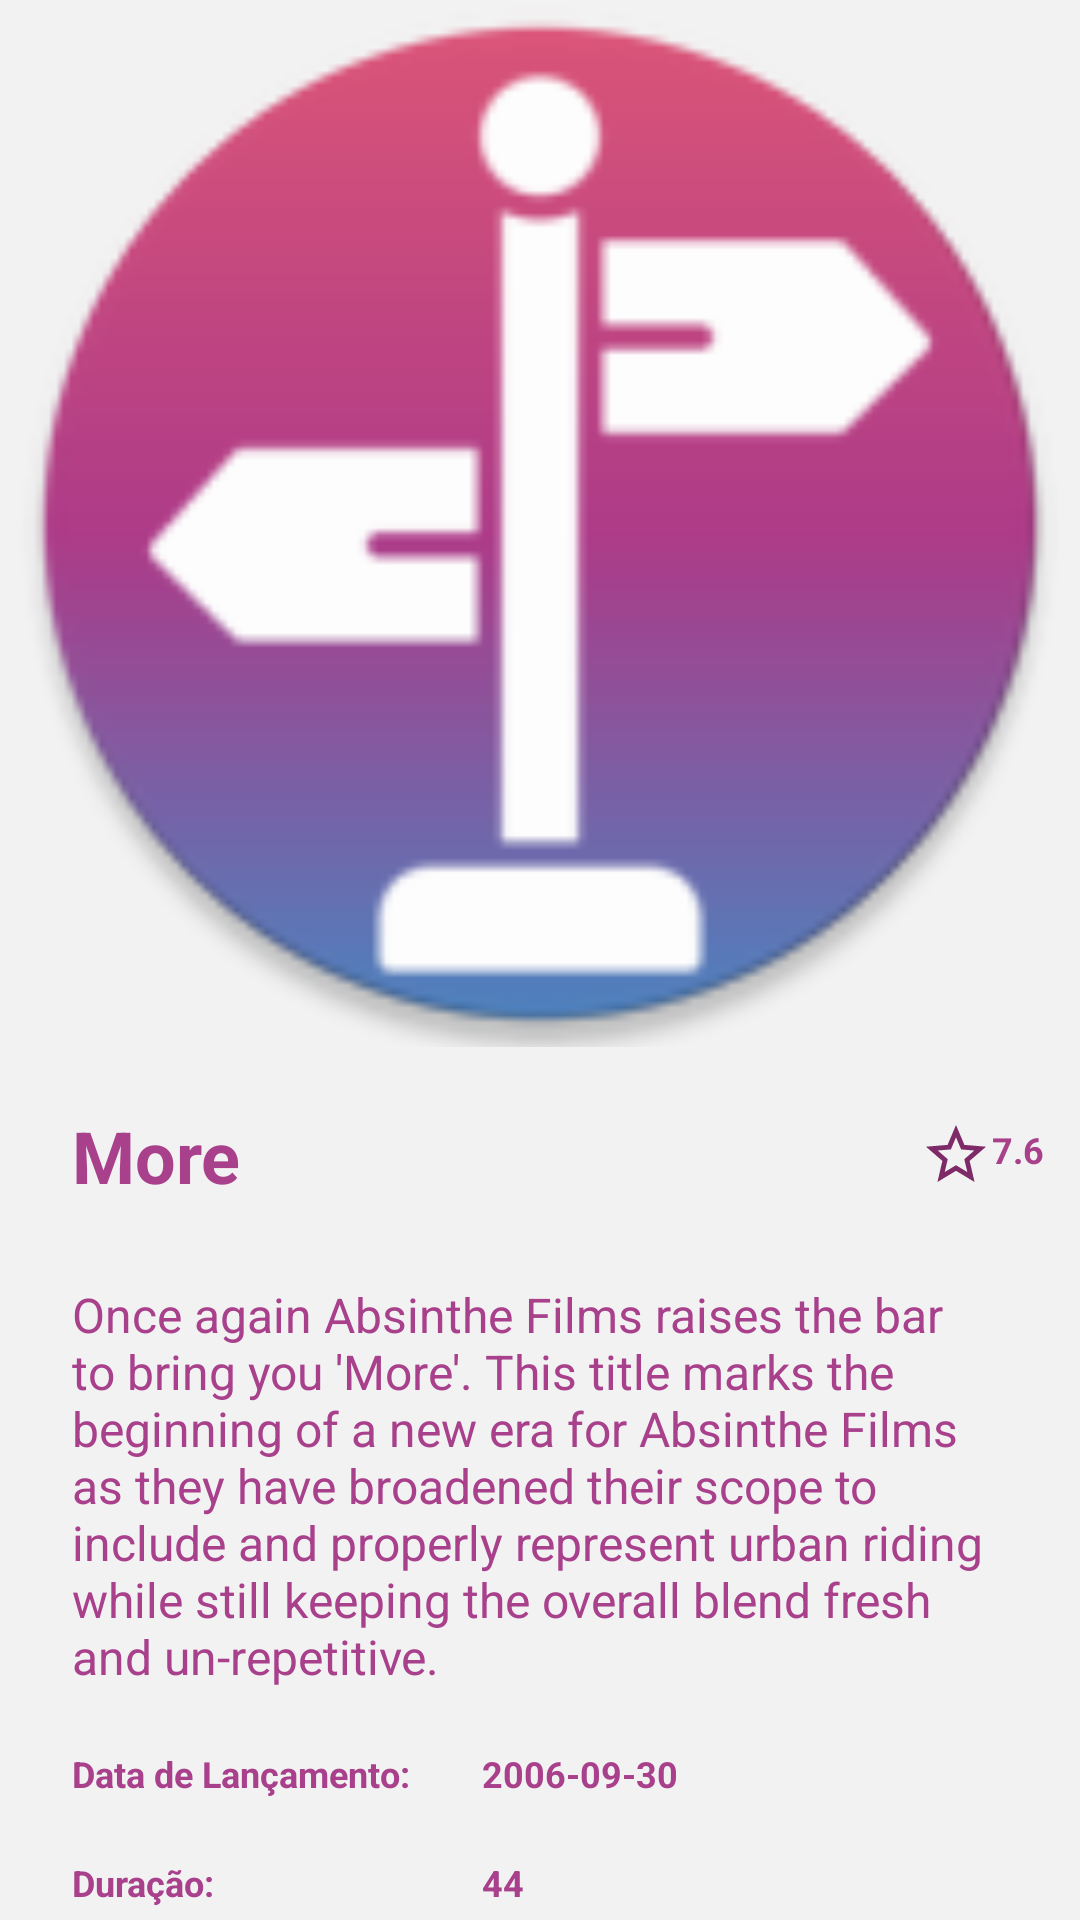

Icons on this 1080x1920 Android screen, each with its box as box=[x1, y1, x2, y2]:
star: box=[926, 1125, 986, 1182]
